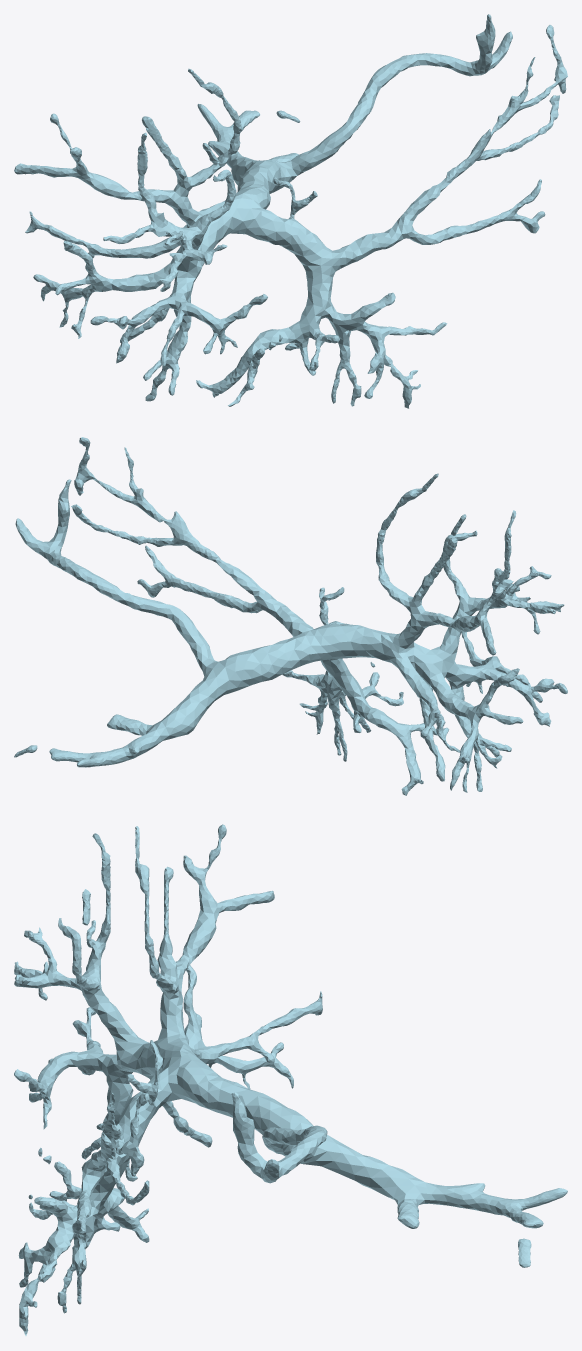
File: portalvein.obj
3 renders of one model, top to bottom at view 1: azimuth 30°, elevation 25°; view 2: azimuth 150°, elevation 25°; view 3: azimuth 270°, elevation 25°, orthographic. The views are drawn at different scales.
Visible parts, largest first — view 1: grp1; view 2: grp1; view 3: grp1.
Part boxes in pixels (x1,y1,x2,y2): grp1: (14, 14, 567, 408); grp1: (14, 437, 567, 795); grp1: (14, 824, 567, 1335).
Bounding box in the file's own units: 224 × 150 × 183.
